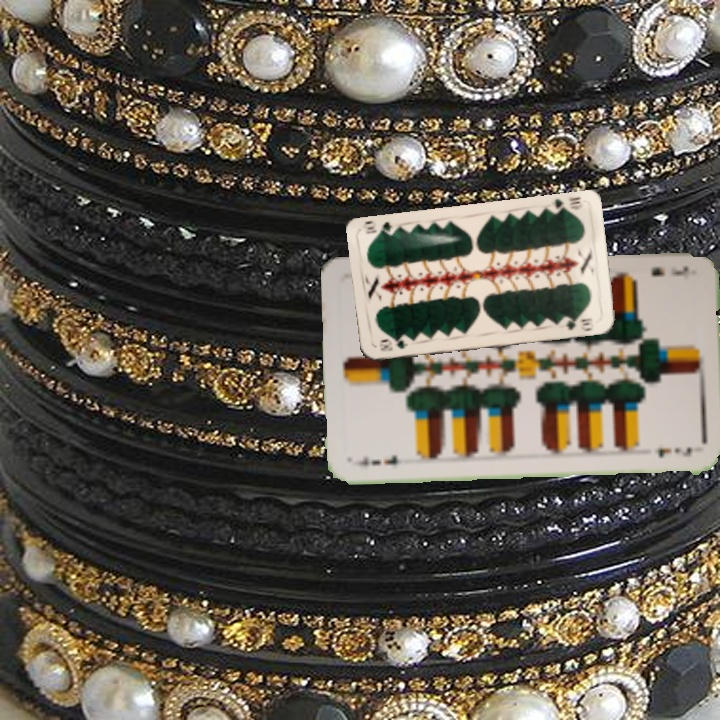E7: (350, 451, 402, 469), (647, 262, 691, 280)
G10: (547, 193, 585, 215), (375, 336, 411, 354)
